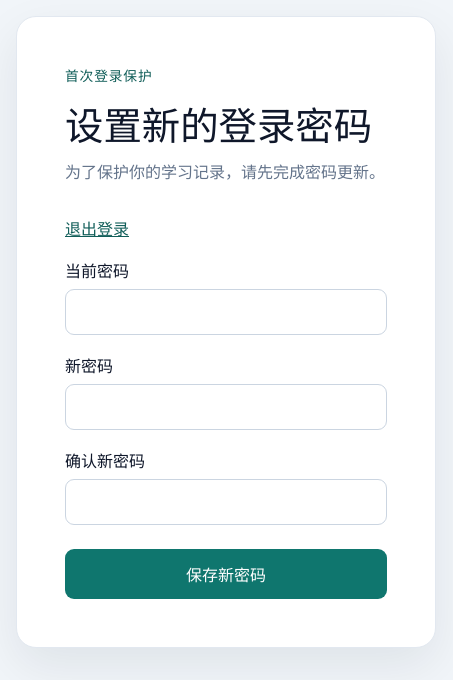
ChangePasswordView › serializes logout against password updates and clears secrets immediately
Type "private-current" into the password field named "当前密码" at (226,312), box x1=65 y1=289 x2=387 y2=335
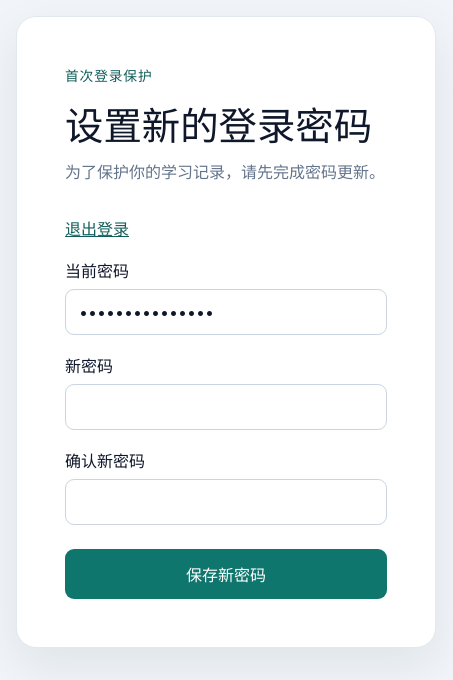
Type "private-new" into the password field named "新密码" at (226,407), box x1=65 y1=384 x2=387 y2=430
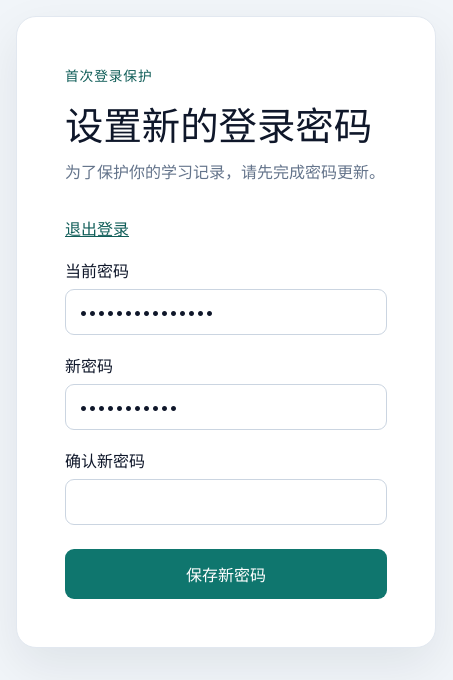
Type "private-new" into the password field named "确认新密码" at (226,502), box x1=65 y1=479 x2=387 y2=525
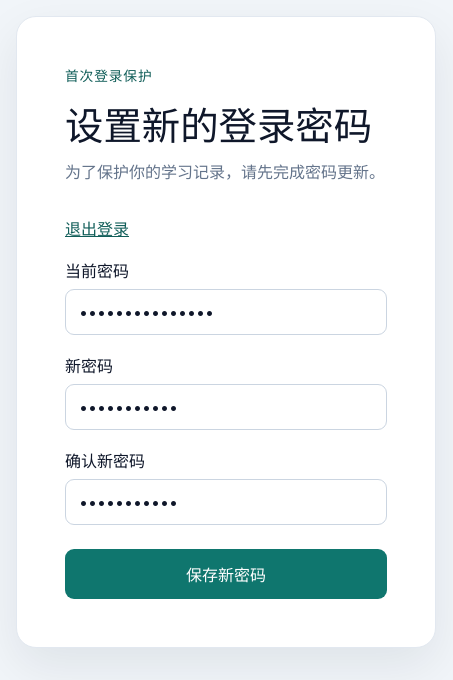
Click the button "退出登录" at (97,228), box x1=65 y1=216 x2=129 y2=240
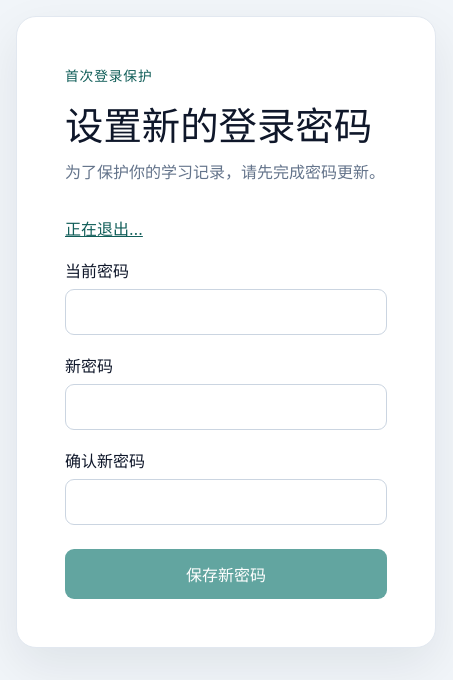
Now the password field named "当前密码" is empty, box x1=65 y1=289 x2=387 y2=335
Now the submit button is disabled, box x1=65 y1=549 x2=387 y2=599
Now the password field named "新密码" is disabled, box x1=65 y1=384 x2=387 y2=430
